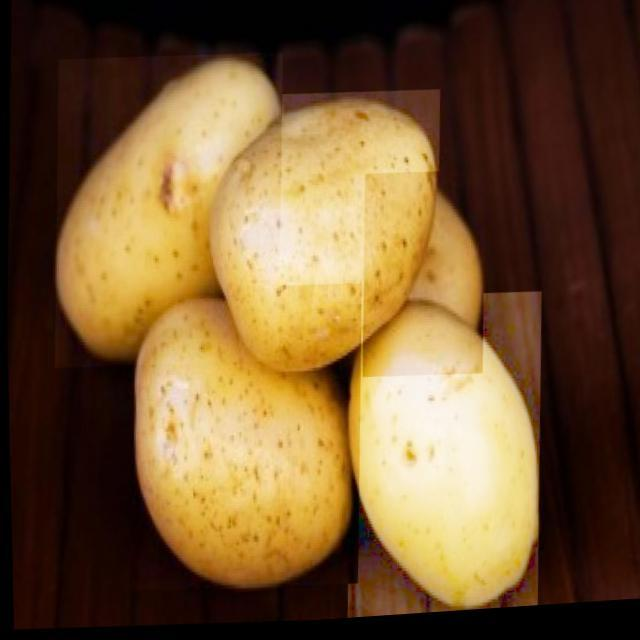Potato: (48, 48, 288, 376), (123, 280, 364, 600), (203, 88, 445, 388), (338, 292, 546, 624), (357, 172, 488, 386)
